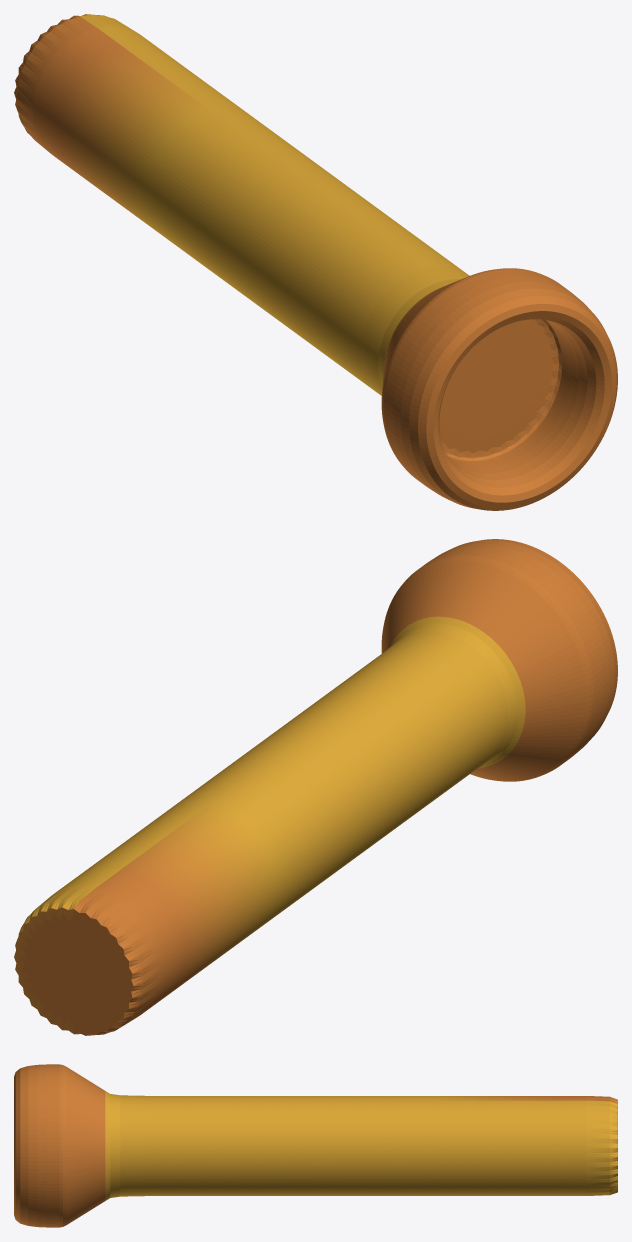
Rendered from newTorch.obj.
3 views of the same model, one above another, from view 1: azimuth 30°, elevation 25°; view 2: azimuth 150°, elevation 25°; view 3: azimuth 270°, elevation 25° (orthographic). The views are drawn at different scales.
Parts seen in each view (by area): view 1: Cylinder; view 2: Cylinder; view 3: Cylinder.
Boxes of the visible parts, box(x1,y1,x2,y2) form: Cylinder: box(14, 14, 617, 510); Cylinder: box(14, 539, 617, 1035); Cylinder: box(14, 1064, 617, 1227).
Bounding box in the file's own units: 0.1615 × 0.1615 × 0.5984.
1 material, 1 textured.
